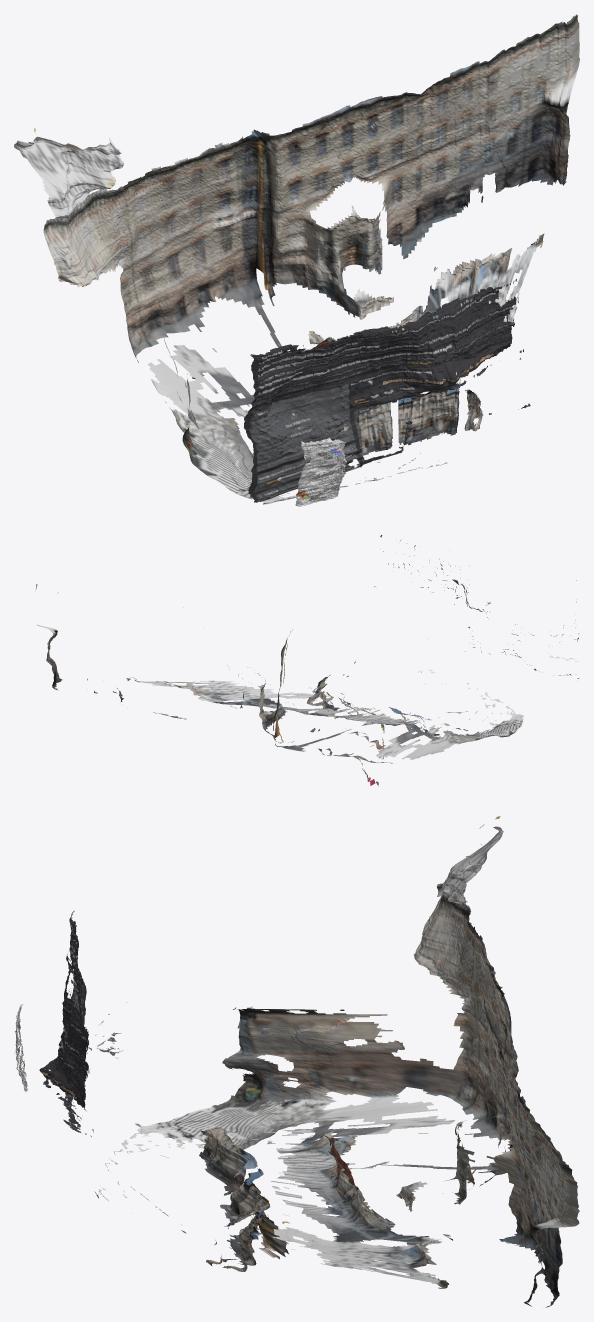
File: building-reconstruction.glb
The picture shows the model from 3 angles, top to bottom: view 1: azimuth 30°, elevation 25°; view 2: azimuth 150°, elevation 25°; view 3: azimuth 270°, elevation 25°; orthographic projection. The views are drawn at different scales.
Parts seen in each view (by area): view 1: world; view 2: world; view 3: world.
Part boxes in pixels (box(x1,y1,x2,y2)): world: box(14, 14, 579, 506); world: box(36, 535, 578, 786); world: box(14, 816, 579, 1307).
Size of the model in its own units: 45.08 by 23.39 by 34.82.
